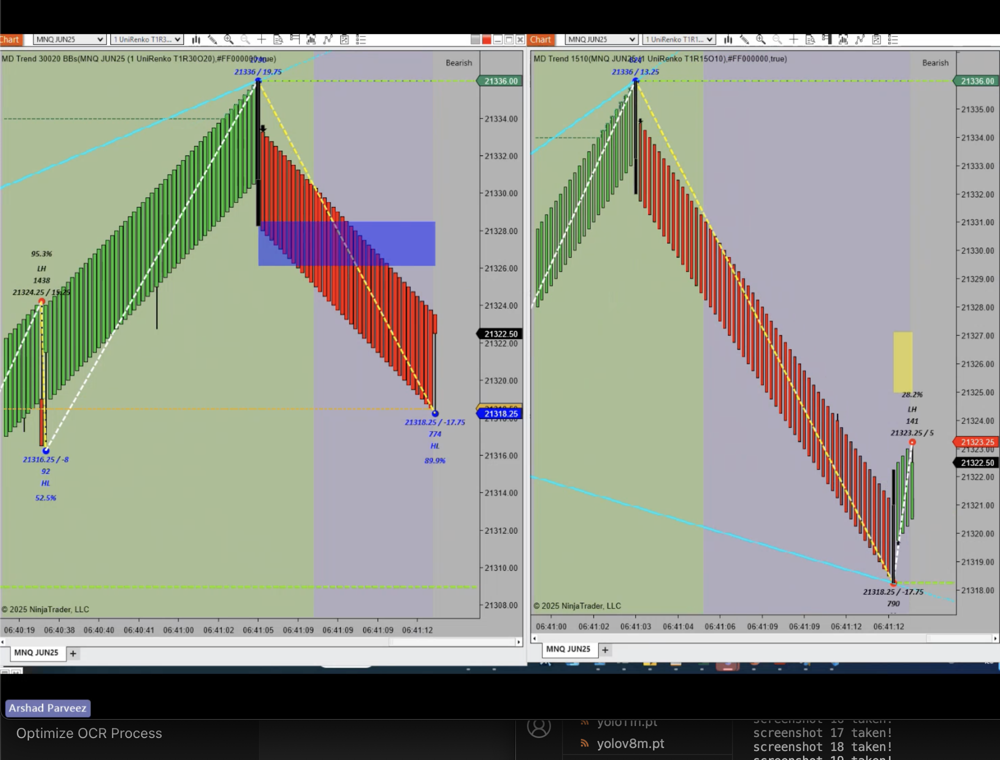HL: (426, 438, 447, 457), (37, 473, 56, 492)
LH: (903, 403, 927, 419), (33, 262, 51, 275)
